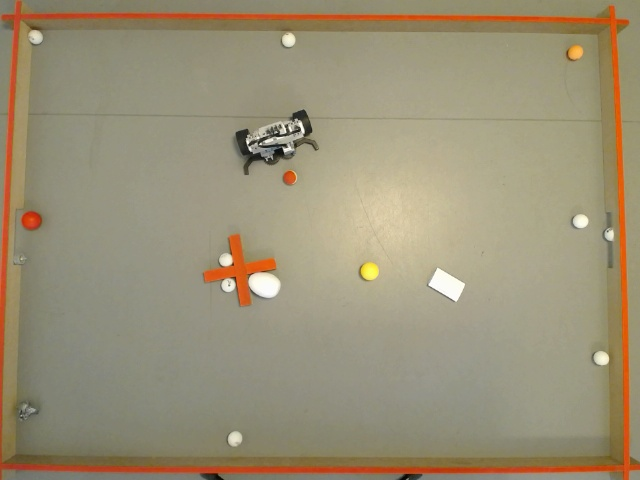big_goal: (14, 209, 22, 264), (604, 212, 612, 266)
cross: (204, 234, 274, 306)
egg: (248, 273, 278, 297)
orange: (567, 44, 582, 59)
robot: (234, 108, 320, 173)
wall: (16, 27, 608, 455)
white: (568, 213, 588, 227), (228, 431, 244, 444), (596, 348, 607, 363), (282, 33, 294, 45), (28, 30, 40, 42), (223, 278, 233, 290), (220, 254, 230, 264), (604, 227, 610, 237)
